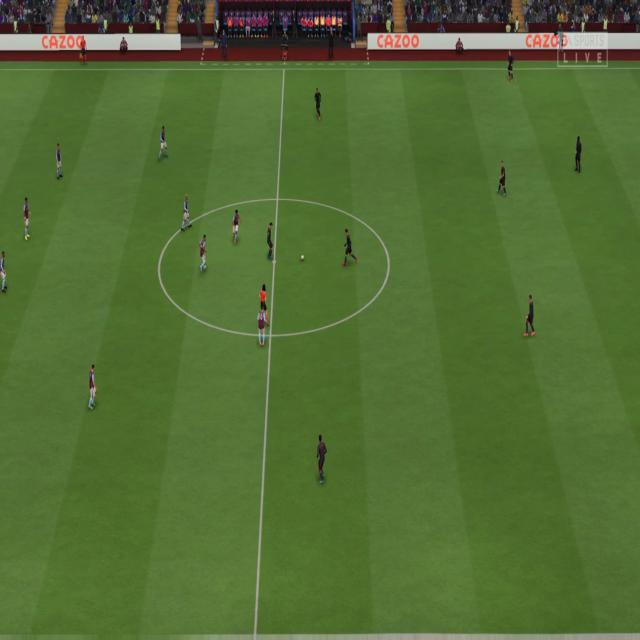Ball: (300, 253, 305, 260)
Referee: (259, 282, 270, 321)
Team-A: (342, 228, 358, 266), (525, 294, 538, 338), (316, 436, 326, 484), (497, 161, 508, 196), (266, 222, 275, 261), (575, 137, 584, 173), (313, 89, 323, 121), (506, 52, 516, 82)
Team-H: (256, 303, 268, 348), (87, 365, 98, 413), (197, 234, 209, 273), (182, 196, 195, 232), (23, 199, 32, 241), (232, 211, 242, 245), (78, 35, 88, 64), (160, 126, 169, 158), (56, 145, 64, 179)
